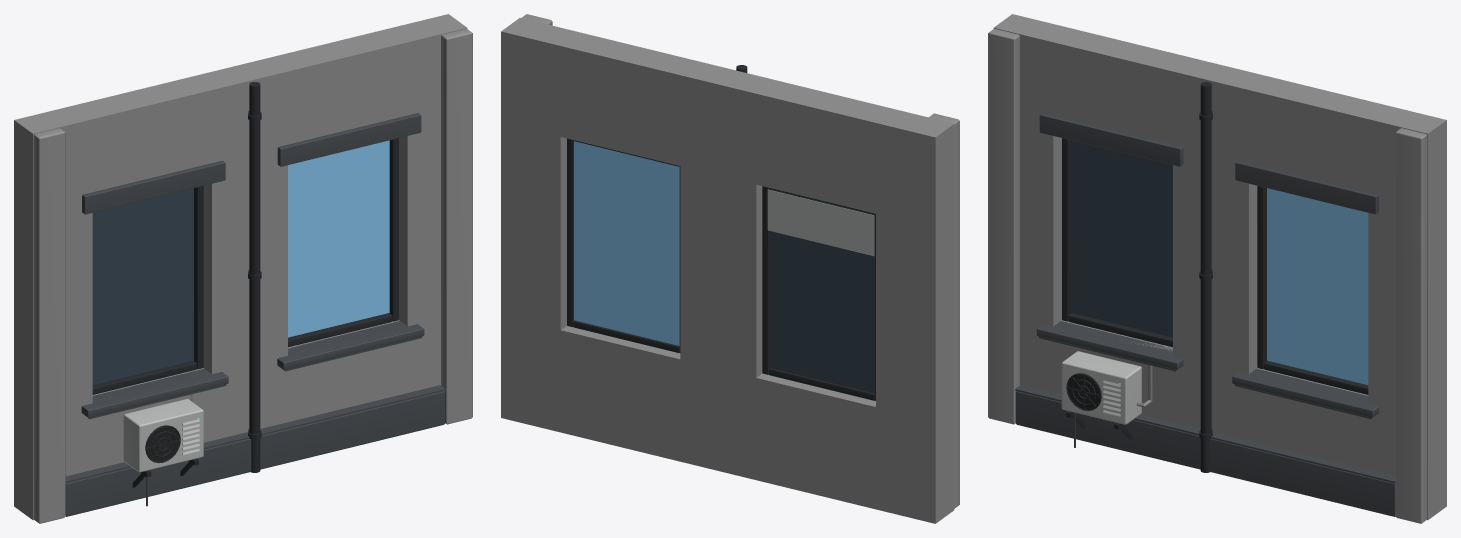
Rendered from Building_Facade_Concrete_Window_Double.fbx.
3 renders of one model, left to right at view 1: azimuth 30°, elevation 25°; view 2: azimuth 150°, elevation 25°; view 3: azimuth 330°, elevation 25°, orthographic.
Visible parts, largest first — view 1: Building_Facade_Concrete_Window_Double_LOD0; view 2: Building_Facade_Concrete_Window_Double_LOD0; view 3: Building_Facade_Concrete_Window_Double_LOD0.
Part boxes in pixels (x1=…): Building_Facade_Concrete_Window_Double_LOD0: x1=14, y1=14, x2=472, y2=523; Building_Facade_Concrete_Window_Double_LOD0: x1=501, y1=14, x2=959, y2=523; Building_Facade_Concrete_Window_Double_LOD0: x1=988, y1=14, x2=1446, y2=523.
Size of what is drawn, in the model's own units: 4 by 3.4 by 0.63.
